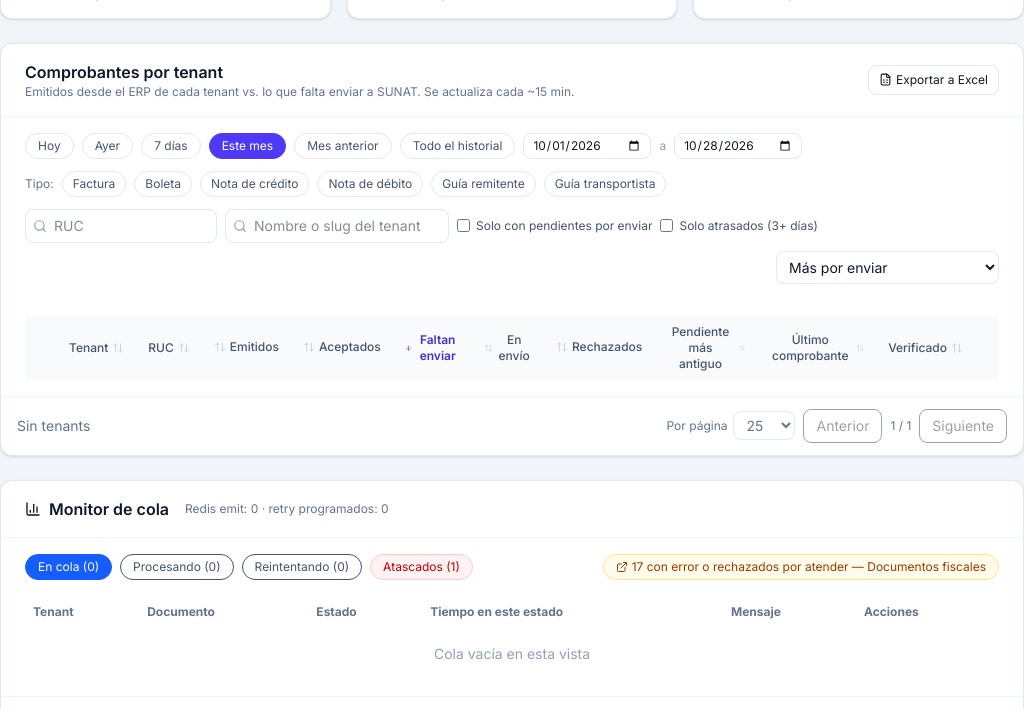
OperacionesFiscalesPage — Fase 4 › Matriz D: business (status=rejected) no presenta "Reprocesar"
(page scrolled)
Check: the text "Monitor de cola" is shown, box [49,496,169,520]
Click the button "Atascados (1)" at (422, 566), box [370,554,473,580]
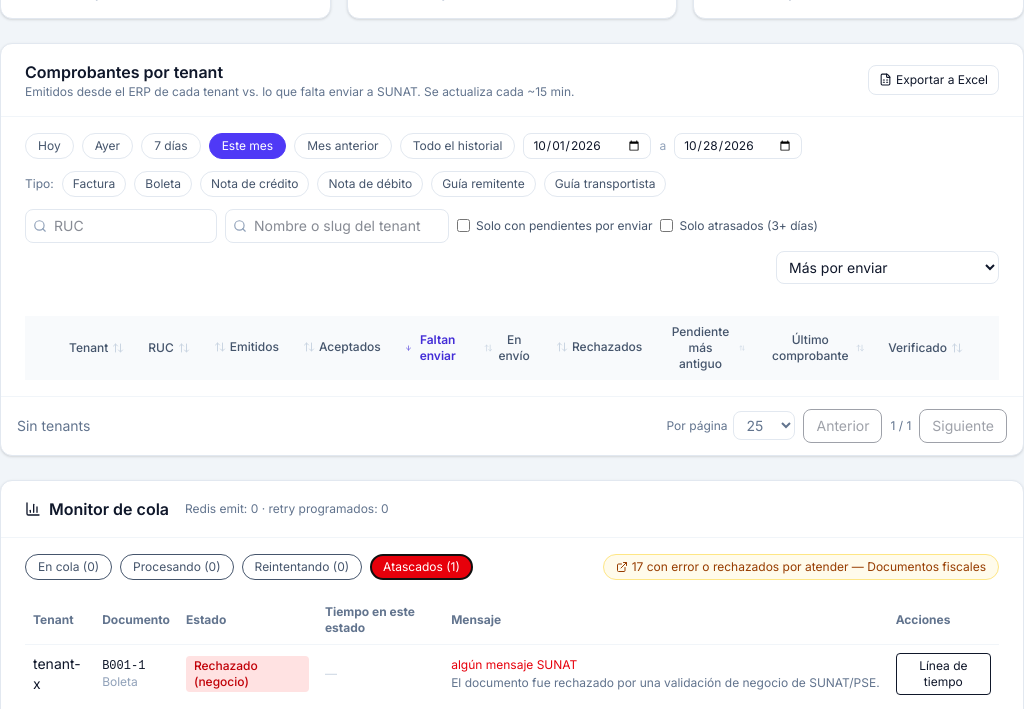
Check: the text "tenant-x" is shown, box [25,644,94,702]
Check: the text "Rechazado (negocio)" is shown, box [186,656,309,692]
